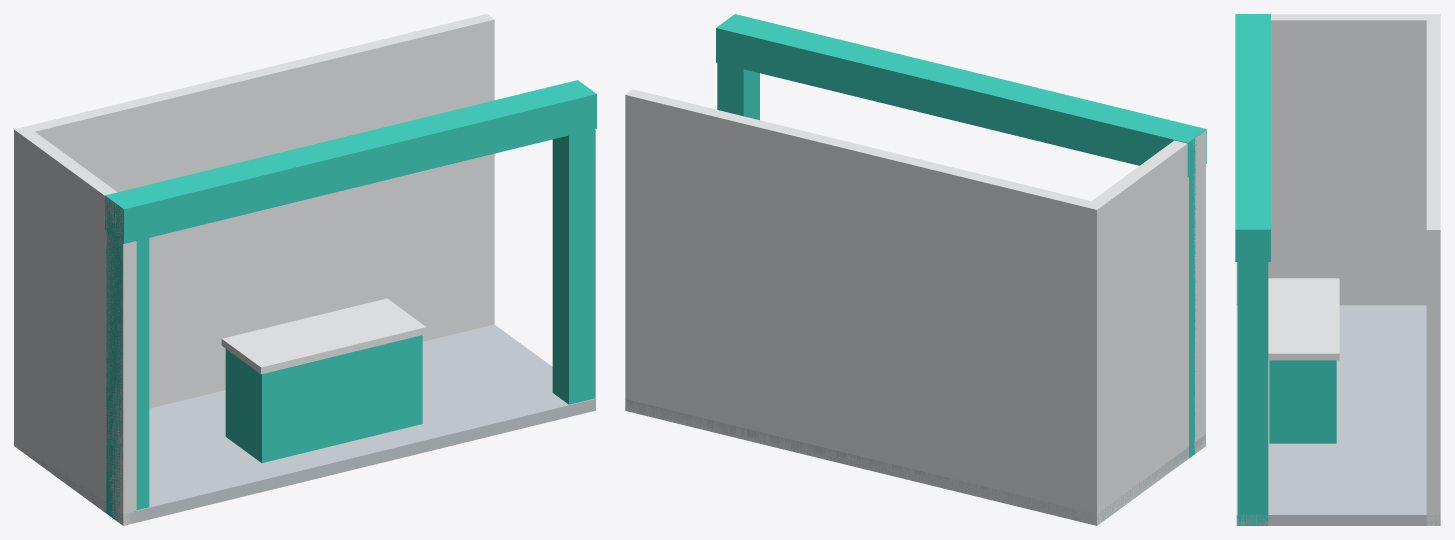
3 views of the same model, side by side, from view 1: azimuth 30°, elevation 25°; view 2: azimuth 150°, elevation 25°; view 3: azimuth 270°, elevation 25° (orthographic). The views are drawn at different scales.
Visible parts, largest first — view 1: Exhibition Booth Concept; view 2: Exhibition Booth Concept; view 3: Exhibition Booth Concept.
Boxes of the visible parts, x1,y1,x2,y2 form: Exhibition Booth Concept: (14,14,596,525); Exhibition Booth Concept: (625,14,1206,525); Exhibition Booth Concept: (1235,14,1440,525).
Size of the model in its own units: 5 by 3.2 by 2.01.
